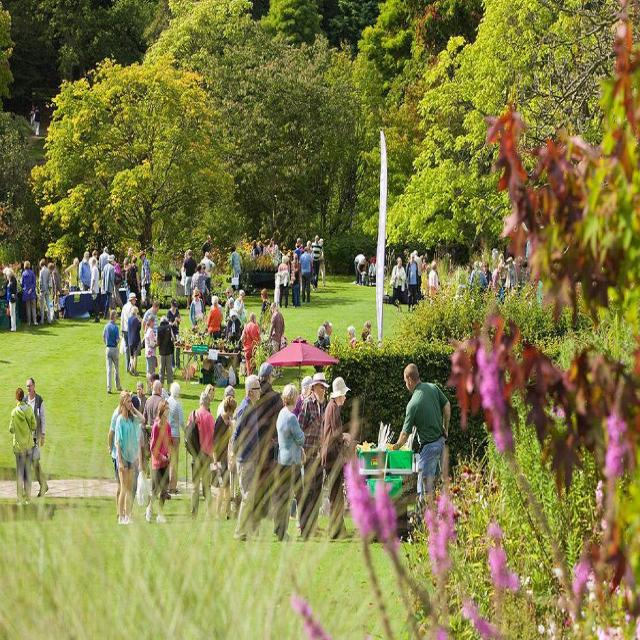body: (390, 359, 452, 540), (294, 370, 332, 540), (228, 373, 262, 541), (272, 381, 307, 543), (321, 374, 353, 541), (253, 360, 286, 520), (113, 390, 146, 528), (182, 390, 216, 522), (8, 386, 38, 508), (143, 399, 172, 525), (22, 376, 49, 501), (212, 394, 238, 523), (107, 389, 129, 520), (165, 381, 188, 496), (310, 319, 376, 350), (102, 308, 125, 395), (461, 252, 519, 285), (155, 314, 176, 397), (266, 300, 288, 379), (142, 378, 164, 457), (141, 299, 161, 374), (19, 257, 40, 327), (240, 311, 262, 376), (120, 292, 136, 374), (165, 297, 182, 371), (189, 285, 205, 362), (143, 314, 158, 396), (353, 251, 386, 287), (128, 255, 146, 320), (37, 257, 53, 327), (127, 305, 142, 378), (101, 253, 116, 322), (291, 374, 314, 419), (200, 248, 217, 306), (47, 262, 63, 322), (110, 254, 126, 314), (404, 252, 419, 312), (389, 256, 406, 308), (4, 265, 17, 332), (88, 257, 101, 323), (298, 246, 313, 303), (182, 249, 196, 309), (138, 250, 151, 311), (247, 234, 279, 258), (309, 234, 322, 293), (215, 384, 235, 422), (206, 295, 222, 341), (223, 286, 235, 344), (130, 381, 149, 416), (278, 255, 290, 309), (7, 274, 18, 332), (412, 248, 423, 305), (233, 288, 248, 329), (148, 373, 170, 400), (259, 287, 272, 332), (64, 256, 80, 292), (229, 245, 241, 293), (190, 262, 208, 292), (79, 250, 92, 291), (200, 262, 211, 308), (306, 239, 315, 294), (137, 437, 144, 506), (317, 237, 326, 288), (428, 260, 439, 301), (98, 245, 110, 280), (204, 382, 217, 414), (292, 262, 300, 310), (0, 266, 7, 314), (200, 234, 213, 258), (274, 270, 281, 308), (231, 313, 242, 337), (180, 249, 187, 286), (88, 248, 99, 271), (121, 255, 131, 273), (294, 236, 304, 253), (418, 254, 428, 270), (282, 244, 293, 258), (130, 394, 140, 408), (227, 297, 236, 311), (218, 302, 224, 317), (65, 280, 70, 293), (436, 270, 440, 286), (294, 253, 300, 262)
